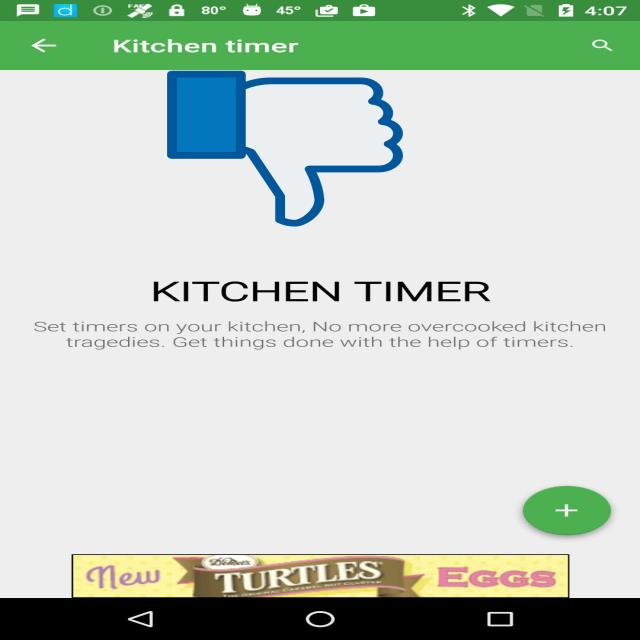obstruction: (167, 67, 403, 230)
